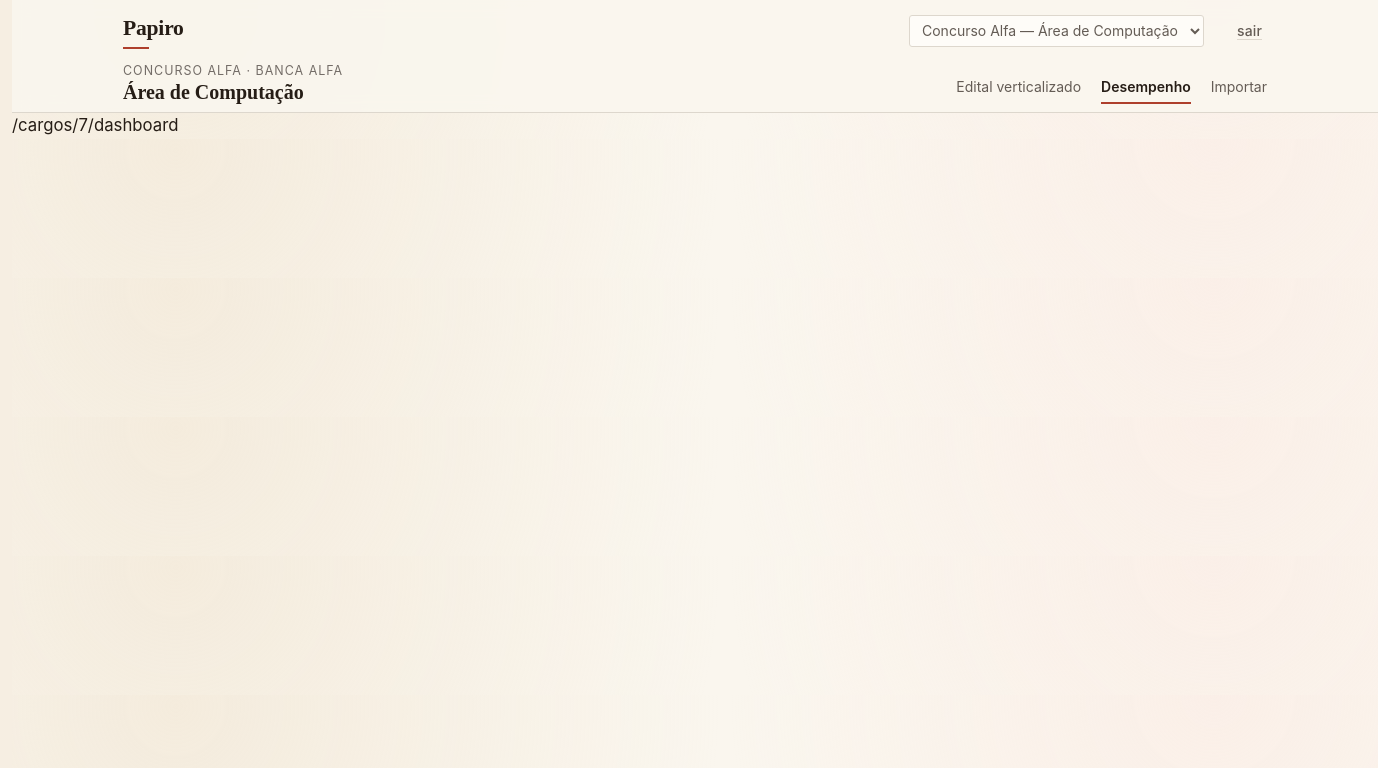
Test: Cabecalho › trocar de edital mantem a secao em que o usuario estava
Expected: the heading "Área de Computação" is shown, [123,81,304,103]
Select "Concurso Beta — Perfil de Segurança" in the dropdown named "Concurso e cargo". click: point(1056, 31)
box: [909,15,1204,47]
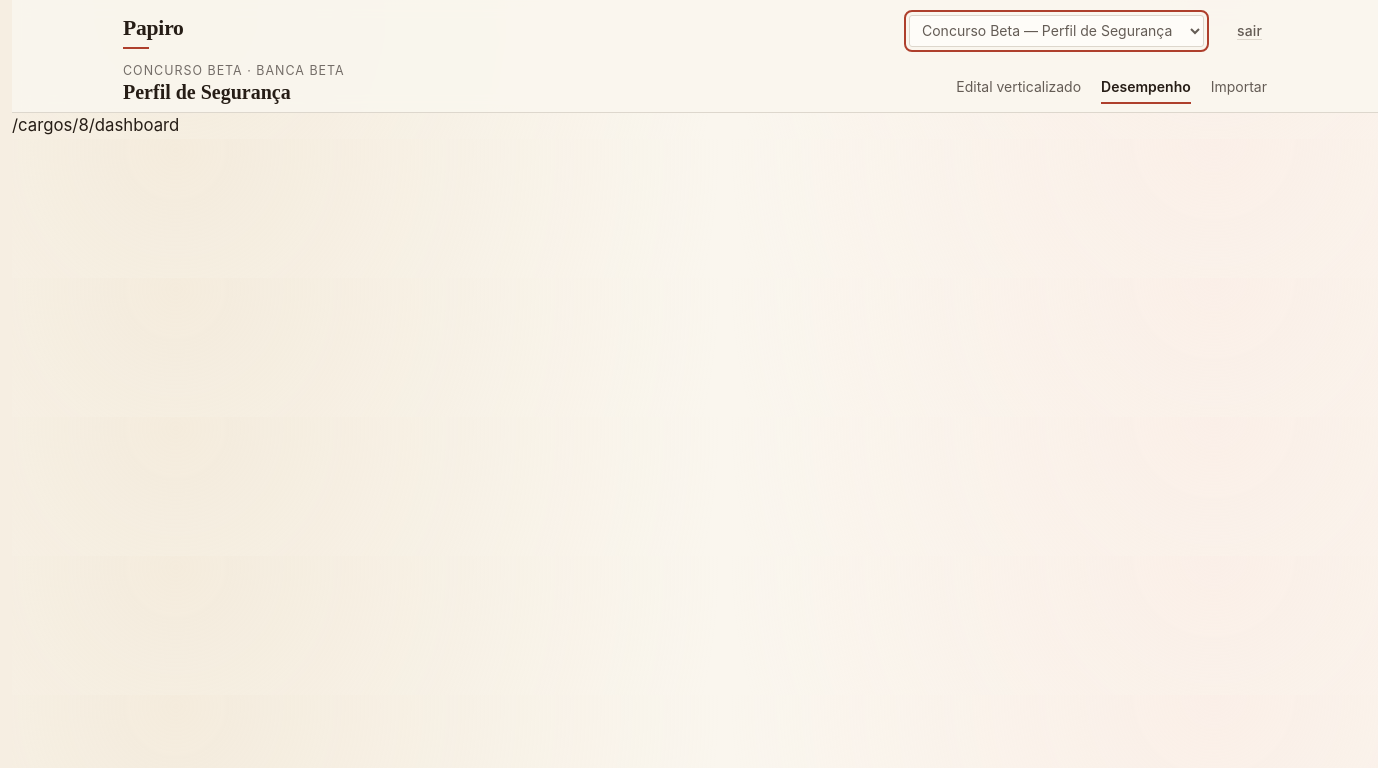
Now the text with test id "url" reads "/cargos/8/dashboard", box [12,115,179,135]
